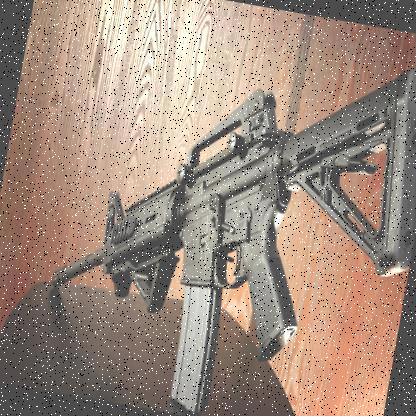rifle: (22, 18, 416, 416)
